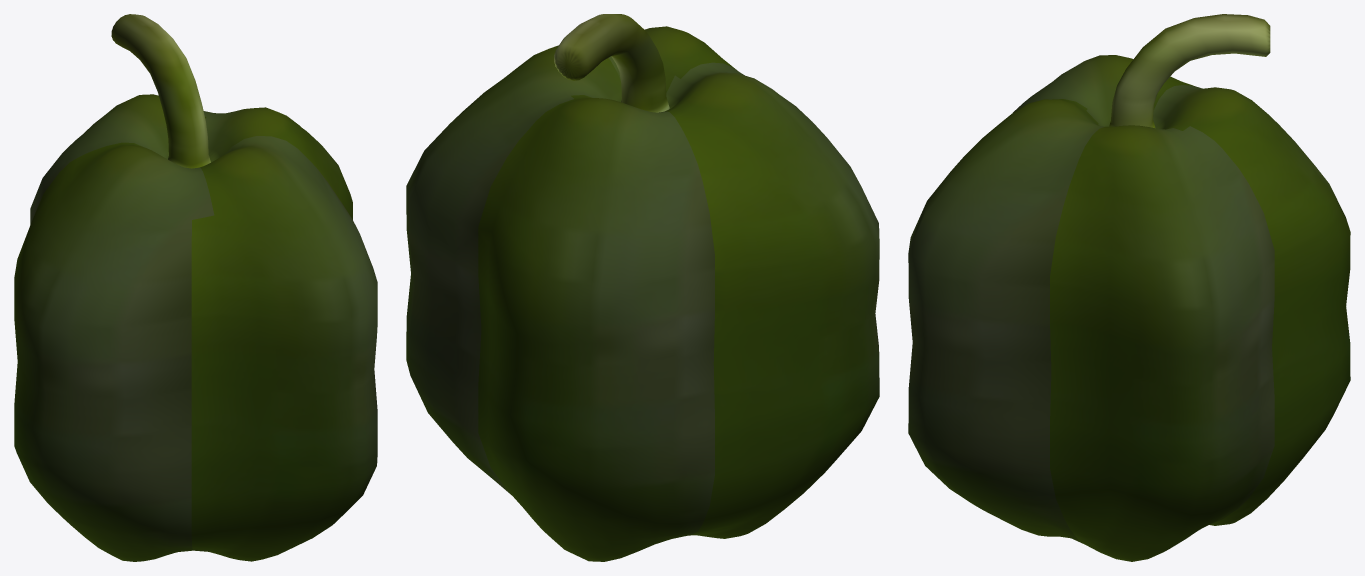
The model's file is Bell_Peppers 1.fbx.
3 views of the same model, side by side, from view 1: azimuth 30°, elevation 25°; view 2: azimuth 150°, elevation 25°; view 3: azimuth 270°, elevation 25° (orthographic). The views are drawn at different scales.
Visible parts, largest first — view 1: pSphere2; view 2: pSphere2; view 3: pSphere2.
Boxes of the visible parts, x1,y1,x2,y2 form: pSphere2: (14, 14, 377, 561); pSphere2: (406, 14, 879, 561); pSphere2: (908, 14, 1350, 561).
Bounding box in the file's own units: 1.89 × 2.4 × 1.9.
